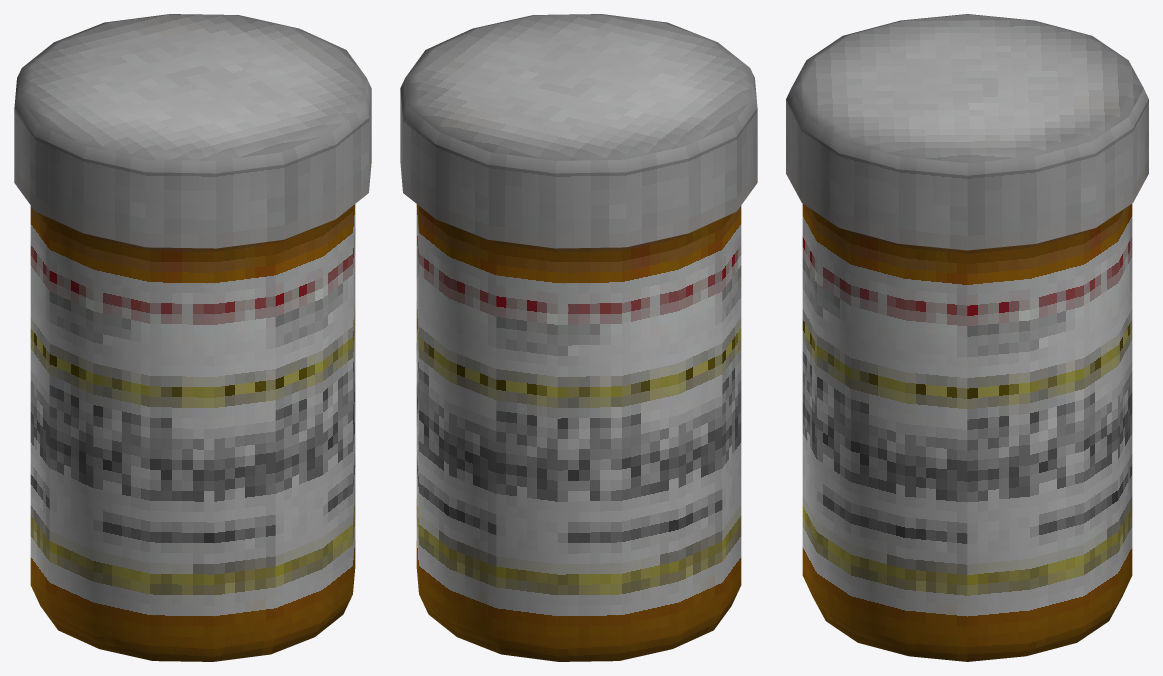
The model's file is pills_bottle_1.dae.
3 renders of one model, left to right at view 1: azimuth 30°, elevation 25°; view 2: azimuth 150°, elevation 25°; view 3: azimuth 270°, elevation 25°, orthographic.
Parts seen in each view (by area): view 1: pills_bottle_1; view 2: pills_bottle_1; view 3: pills_bottle_1.
Boxes of the visible parts, bbox=[...] form: pills_bottle_1: bbox=[14, 14, 371, 661]; pills_bottle_1: bbox=[400, 14, 757, 661]; pills_bottle_1: bbox=[786, 14, 1148, 661].
Bounding box in the file's own units: 0.0832 × 0.0832 × 0.1318.
Materials: 1 (1 with a texture image).
